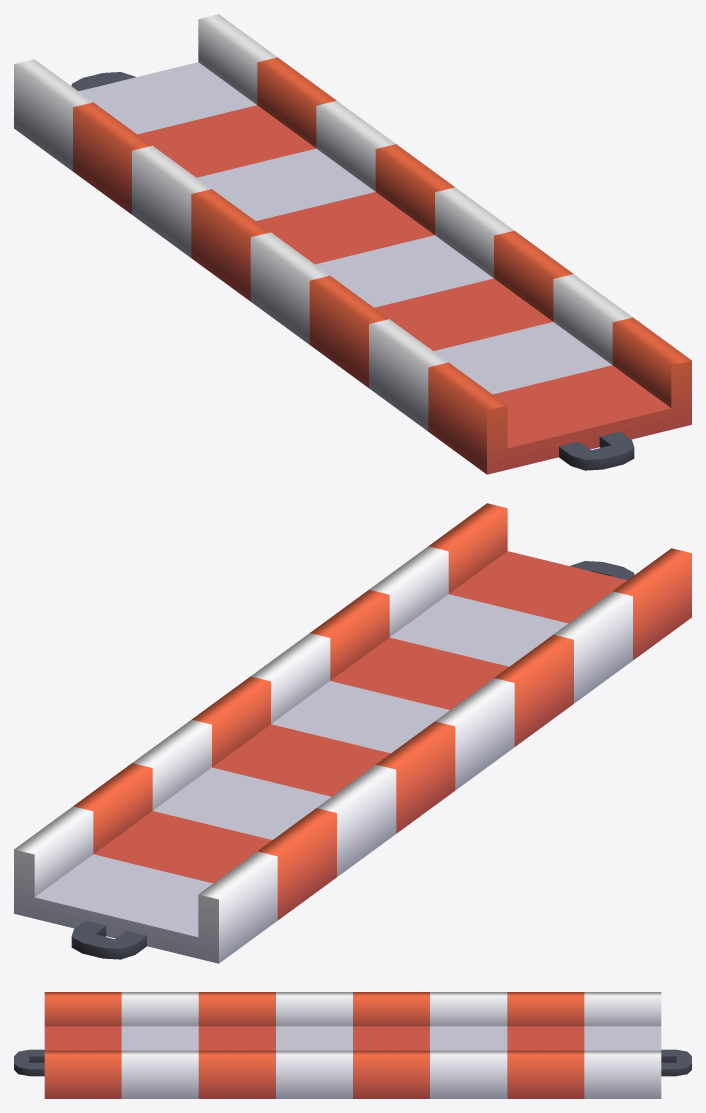
Rendered from kenney-toy-car-track-striped-narrow-straight.glb.
3 renders of one model, top to bottom at view 1: azimuth 30°, elevation 25°; view 2: azimuth 150°, elevation 25°; view 3: azimuth 270°, elevation 25°, orthographic. The views are drawn at different scales.
Visible parts, largest first — view 1: track-striped-narrow-straight; view 2: track-striped-narrow-straight; view 3: track-striped-narrow-straight.
Boxes of the visible parts, left/top/right/bottom form: track-striped-narrow-straight: left=14, top=14, right=691, bottom=474; track-striped-narrow-straight: left=14, top=503, right=691, bottom=963; track-striped-narrow-straight: left=14, top=992, right=691, bottom=1098.
Size of the model in its own units: 1 by 0.2997 by 4.4.
Materials: 1 (1 with a texture image).
